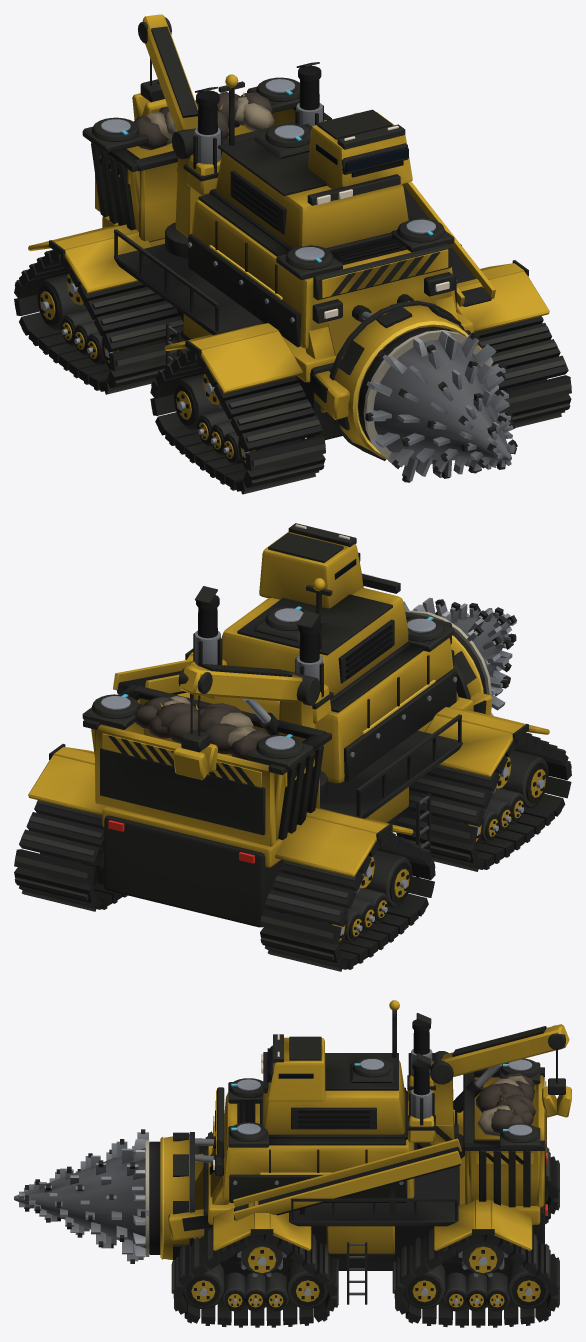
The model's file is ex_crawler_10.glb.
The picture shows the model from 3 angles, top to bottom: view 1: azimuth 30°, elevation 25°; view 2: azimuth 150°, elevation 25°; view 3: azimuth 270°, elevation 25°; orthographic projection. The views are drawn at different scales.
Parts seen in each view (by area): view 1: body, drill, wheel_20, wheel_8, wheel_21; view 2: body, drill, wheel_7, wheel_19, wheel_23, wheel_11; view 3: body, drill, wheel_2, wheel_14, wheel_1, wheel_13, wheel_0, wheel_12, wheel_3, wheel_17, wheel_5, wheel_15 (+2 smaller).
Part boxes in pixels (x1,y1,x2,y2): body: (14,14,571,494); drill: (358,326,517,482); wheel_20: (37,273,87,330); wheel_8: (173,373,223,430); wheel_21: (61,310,95,346); body: (14,523,571,971); drill: (403,597,516,715); wheel_7: (500,750,548,808); wheel_19: (364,850,412,907); wheel_23: (355,888,388,924); wheel_11: (491,788,524,824); body: (160,1000,571,1327); drill: (14,1129,160,1263); wheel_2: (286,1261,328,1309); wheel_14: (507,1261,549,1309); wheel_1: (182,1264,224,1309); wheel_13: (404,1264,445,1309); wheel_0: (237,1235,286,1276); wheel_12: (458,1235,507,1277); wheel_3: (265,1272,289,1311); wheel_17: (443,1272,466,1311); wheel_5: (222,1272,245,1311); wheel_15: (486,1272,510,1311).
Size of the model in its own units: 11.46 by 10.12 by 20.71.
